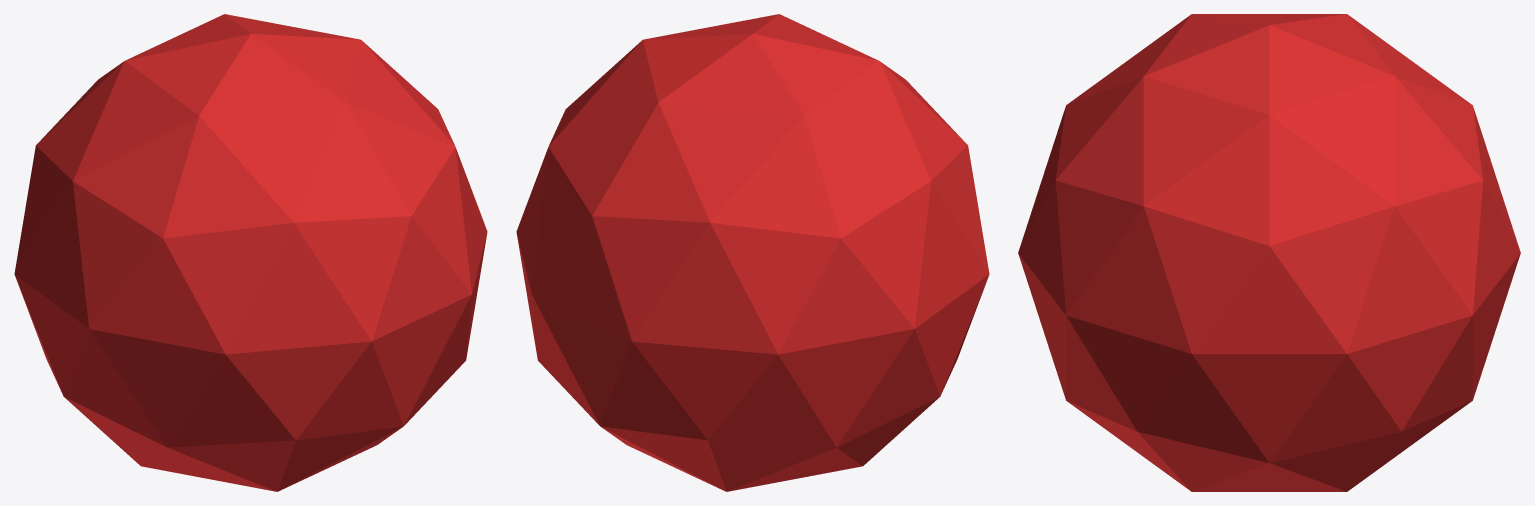
The model's file is playerCube.obj.
3 renders of one model, left to right at view 1: azimuth 30°, elevation 25°; view 2: azimuth 150°, elevation 25°; view 3: azimuth 270°, elevation 25°, orthographic. The views are drawn at different scales.
Parts seen in each view (by area): view 1: ICO球; view 2: ICO球; view 3: ICO球.
Part boxes in pixels (bbox=[...]): ICO球: bbox=[14, 14, 487, 491]; ICO球: bbox=[516, 14, 989, 491]; ICO球: bbox=[1018, 14, 1520, 491].
Bounding box in the file's own units: 1.9 × 2 × 2.
1 material, 1 textured.
